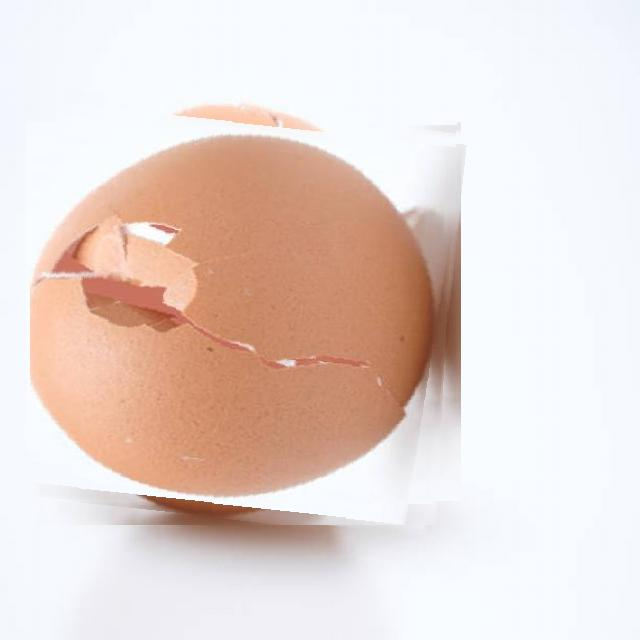biodegradable: (30, 98, 458, 525)
